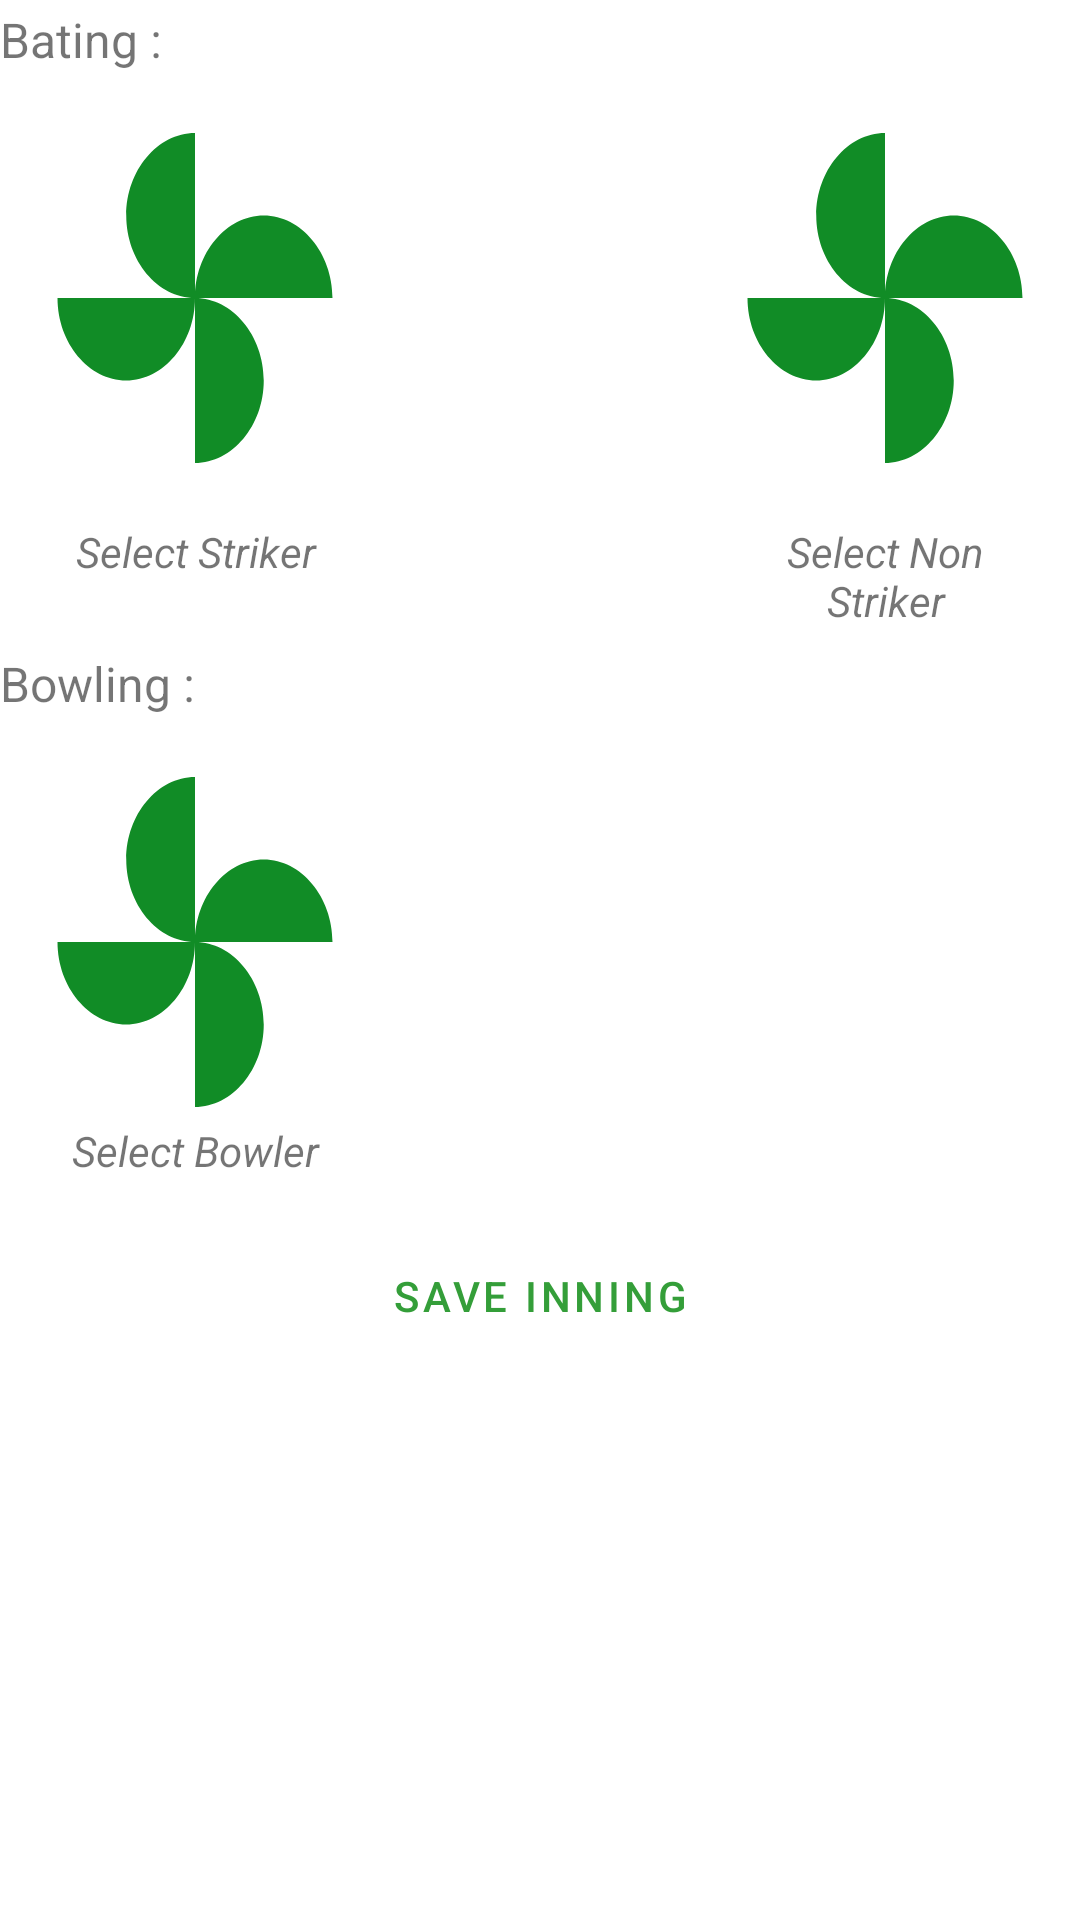

Icon click points for this 1080 x 1920 phone screenshot, format [x,y]:
toys: [195,298], [885,298], [195,942]
